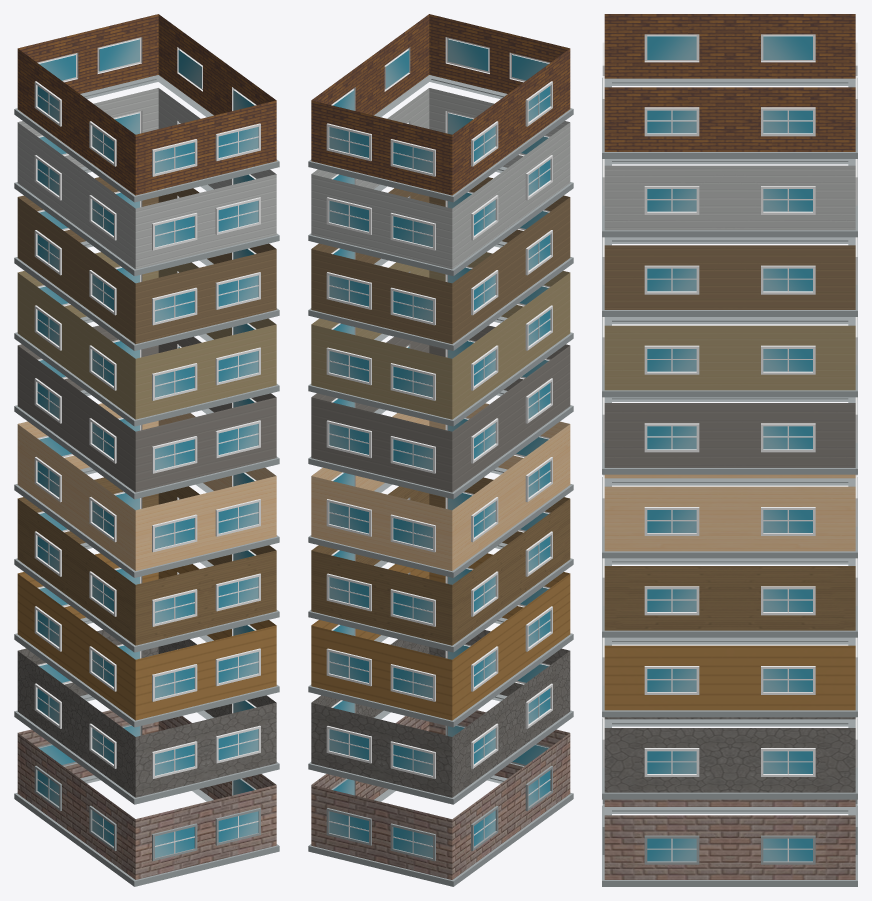
File: ModularHouses_F2_01.fbx
The picture shows the model from 3 angles, left to right: view 1: azimuth 30°, elevation 25°; view 2: azimuth 150°, elevation 25°; view 3: azimuth 270°, elevation 25°; orthographic projection. The views are drawn at different scales.
Visible parts, largest first — view 1: F2_V_1_1, F2_V_1_2, F2_V_1_10, F2_V_1_6, F2_V_1_7, F2_V_1_9, F2_V_1_4, F2_V_1_8, F2_V_1_3, F2_V_1_5; view 2: F2_V_1_1, F2_V_1_2, F2_V_1_10, F2_V_1_9, F2_V_1_6, F2_V_1_7, F2_V_1_4, F2_V_1_8, F2_V_1_3, F2_V_1_5; view 3: F2_V_1_1, F2_V_1_10, F2_V_1_6, F2_V_1_9, F2_V_1_4, F2_V_1_8, F2_V_1_3, F2_V_1_7, F2_V_1_2, F2_V_1_5.
Part boxes in pixels (x1,y1,x2,y2): F2_V_1_1: [14, 14, 279, 202]; F2_V_1_2: [14, 88, 279, 276]; F2_V_1_10: [14, 710, 279, 886]; F2_V_1_6: [14, 403, 279, 577]; F2_V_1_7: [14, 477, 279, 652]; F2_V_1_9: [14, 630, 279, 804]; F2_V_1_4: [14, 252, 279, 426]; F2_V_1_8: [14, 553, 279, 727]; F2_V_1_3: [14, 177, 279, 350]; F2_V_1_5: [14, 325, 279, 499]; F2_V_1_1: [308, 14, 573, 202]; F2_V_1_2: [308, 88, 573, 276]; F2_V_1_10: [308, 710, 573, 886]; F2_V_1_9: [308, 630, 573, 804]; F2_V_1_6: [308, 403, 573, 577]; F2_V_1_7: [308, 477, 573, 652]; F2_V_1_4: [308, 252, 573, 426]; F2_V_1_8: [308, 553, 573, 727]; F2_V_1_3: [308, 177, 573, 350]; F2_V_1_5: [308, 325, 573, 499]; F2_V_1_1: [602, 14, 857, 158]; F2_V_1_10: [602, 799, 857, 886]; F2_V_1_6: [602, 474, 857, 558]; F2_V_1_9: [602, 717, 857, 799]; F2_V_1_4: [602, 317, 857, 397]; F2_V_1_8: [602, 637, 857, 717]; F2_V_1_3: [602, 237, 857, 316]; F2_V_1_7: [602, 558, 857, 637]; F2_V_1_2: [602, 159, 857, 237]; F2_V_1_5: [602, 397, 857, 474].
Bounding box in the file's own units: 42.64 × 211 × 61.13.
